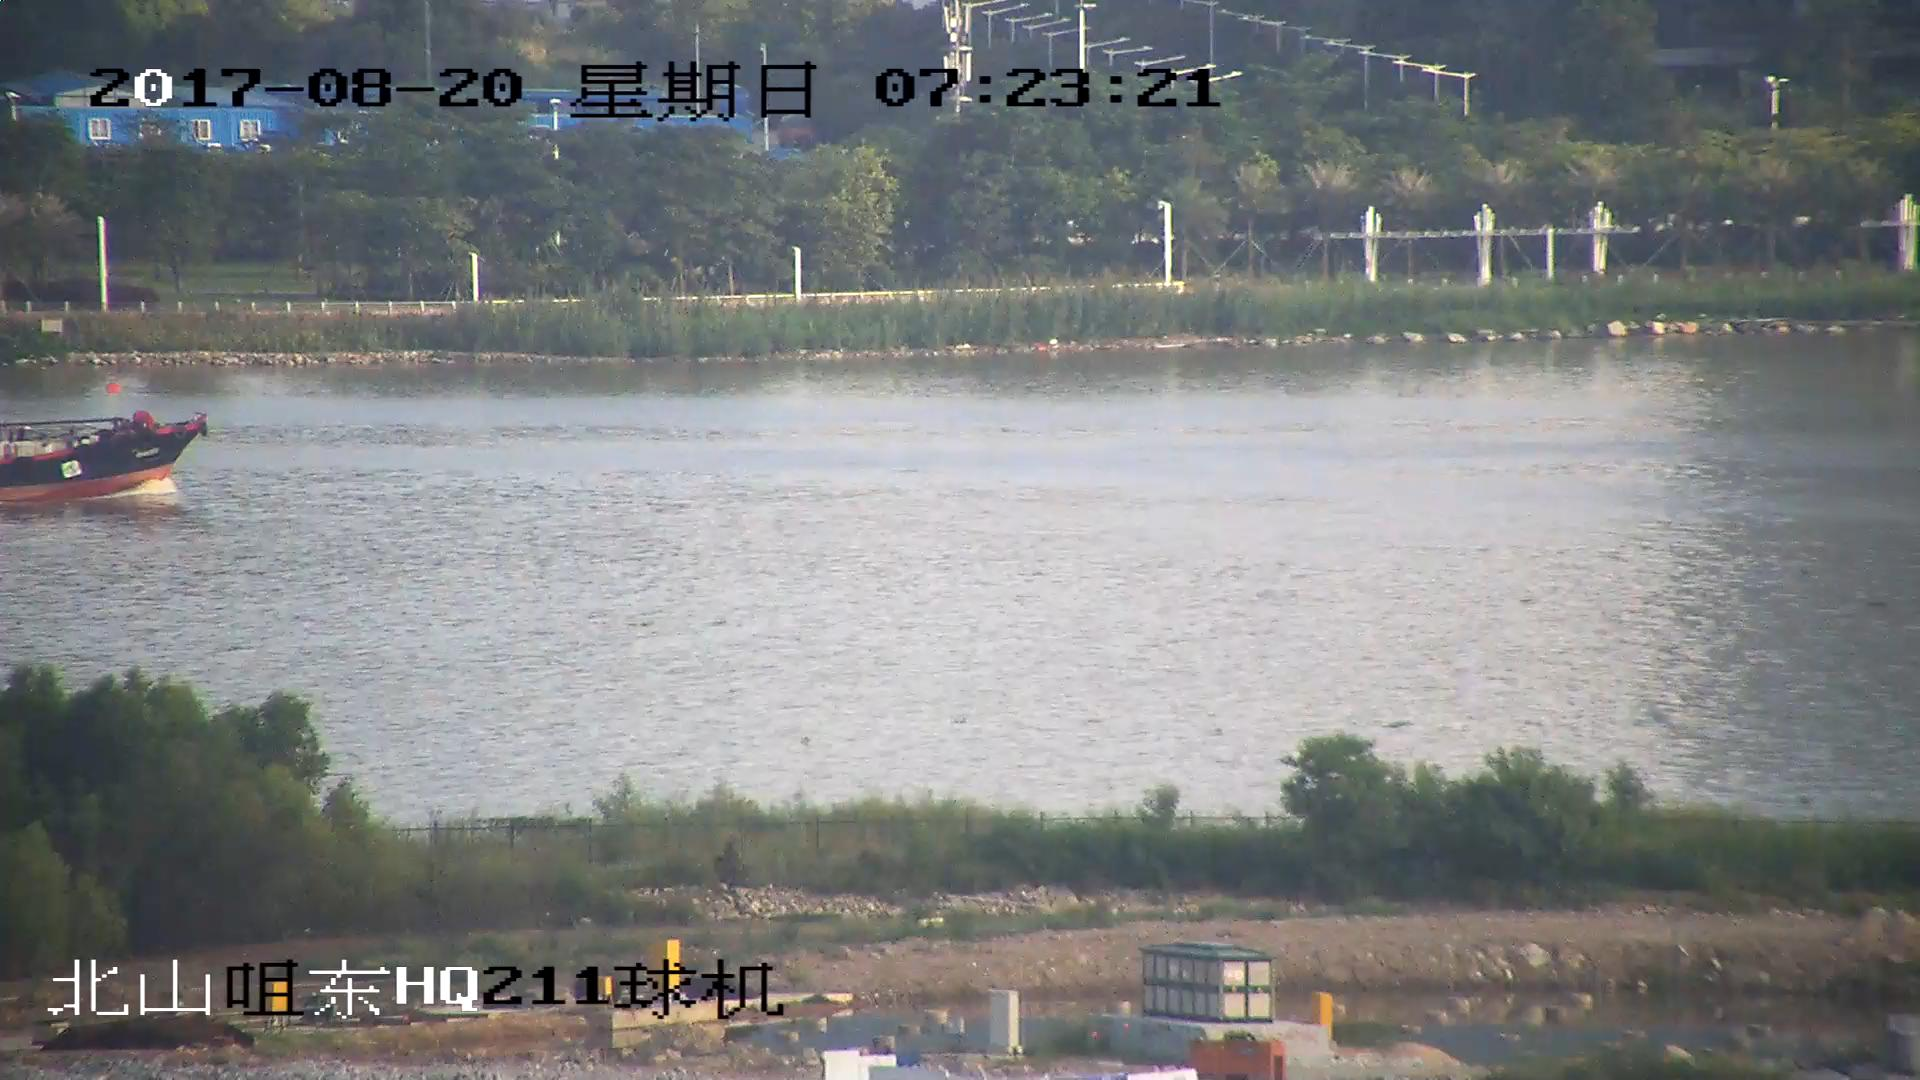fishing boat: (1, 392, 210, 501)
